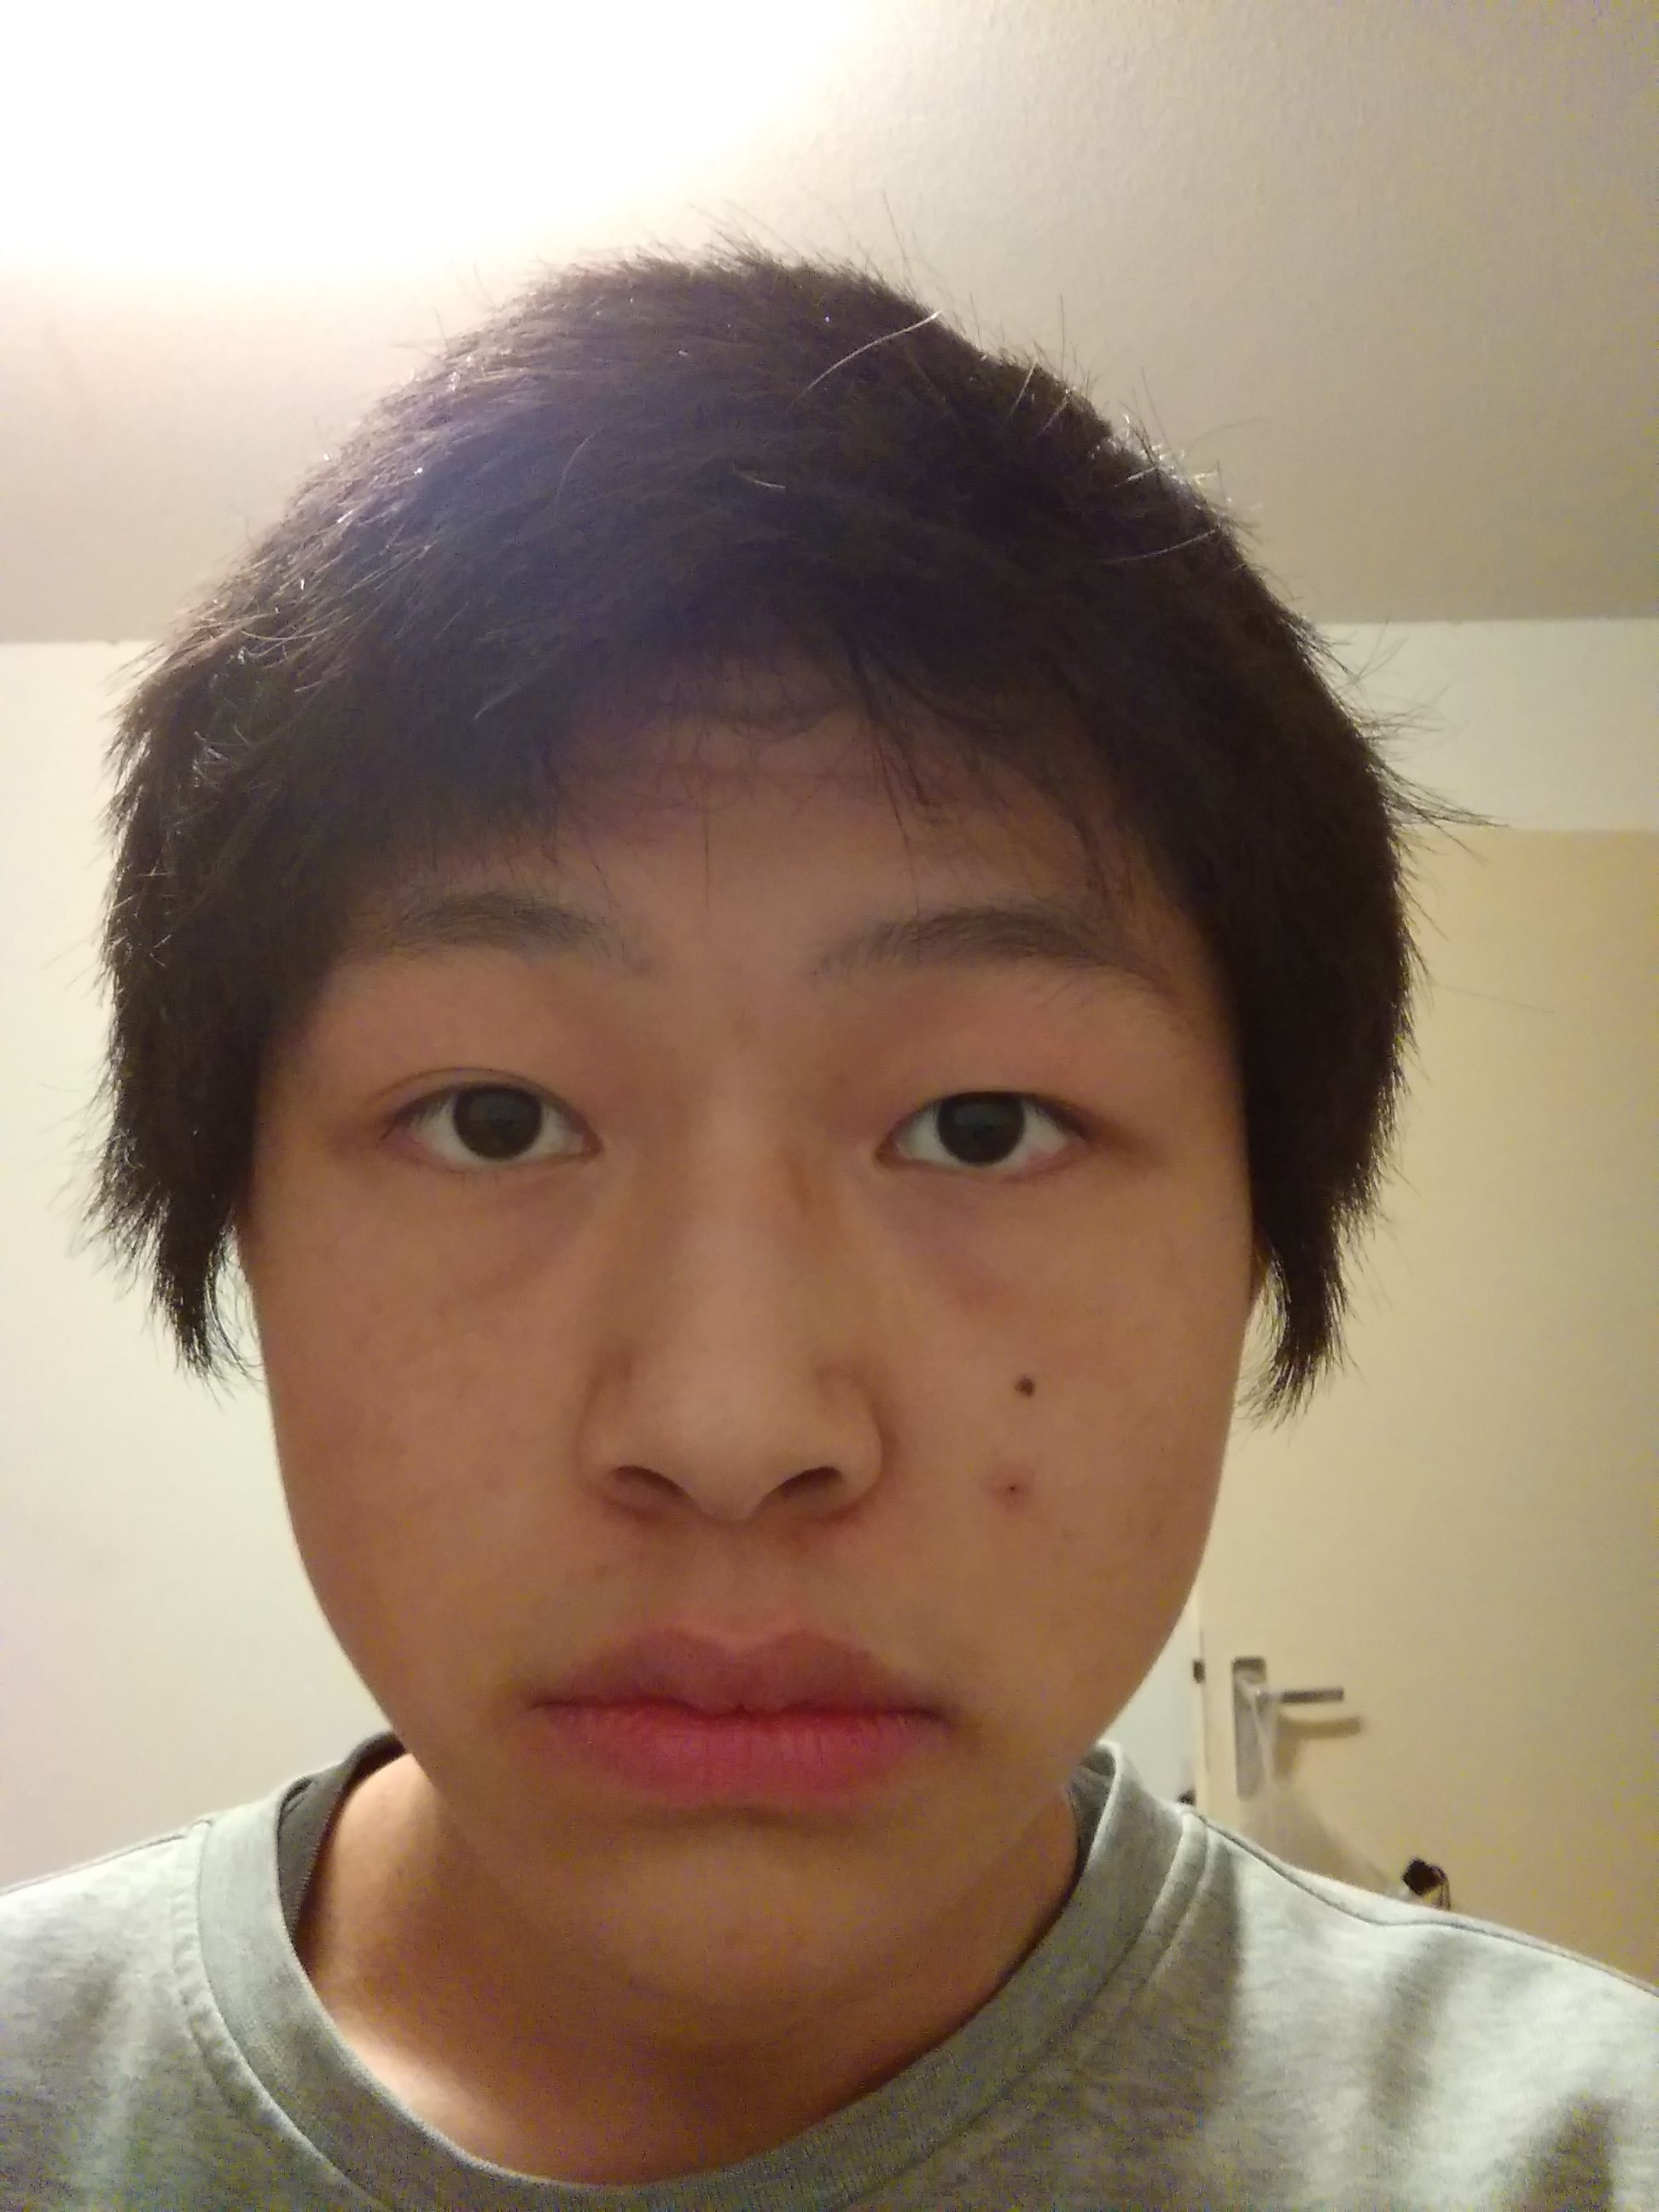face_no_mask: (154, 259, 1265, 2009)
